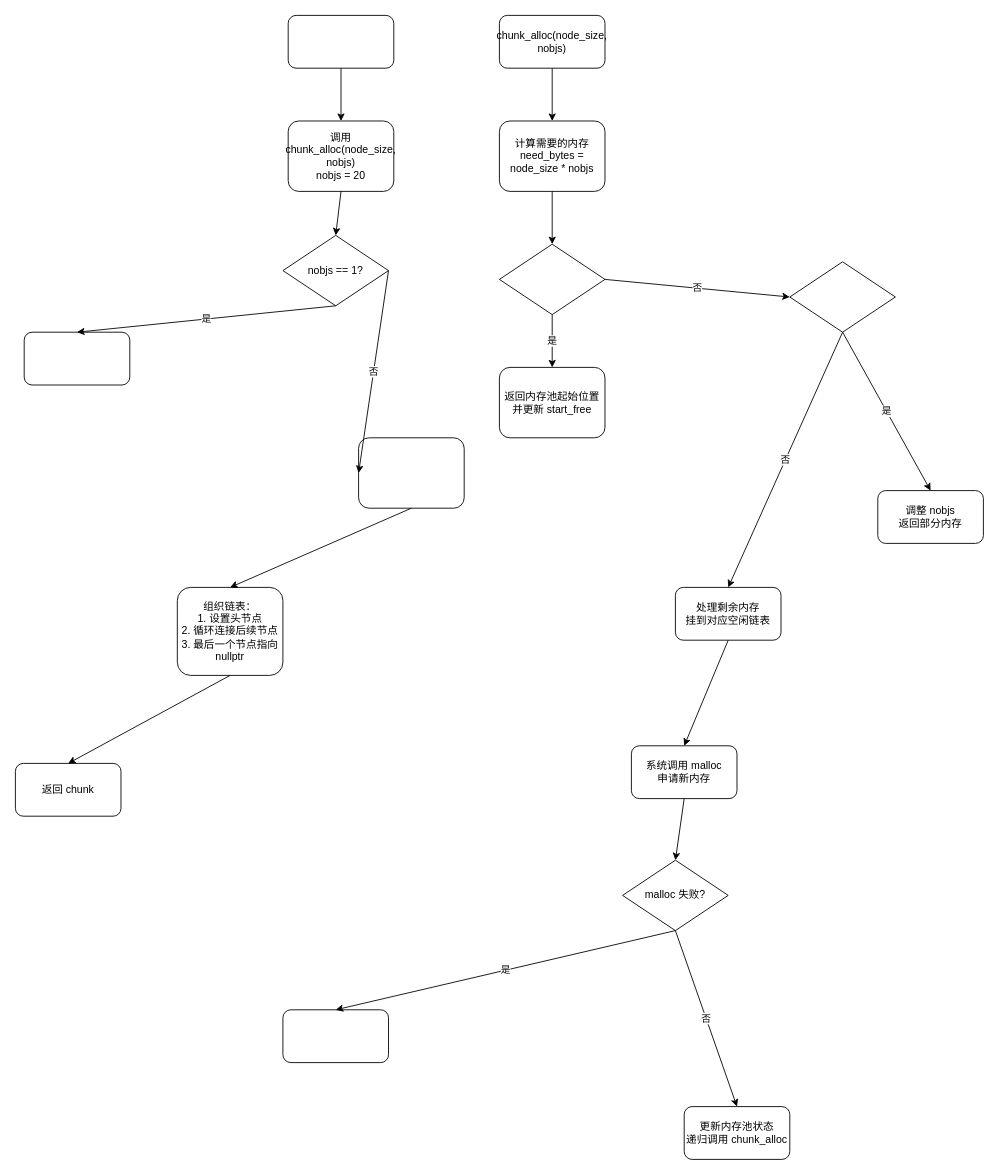
Some shapes in this 999 by 1175 pixel diagram are drawn without their labels. Here are the shapes that lost their labels. From the top down, the centre of each, then its label:
At (340,41): "refill(node_size)".
At (552,279): "bytes_left >= need_bytes?".
At (842,296): "bytes_left >= node_size?".
At (76,358): "直接返回 chunk".
At (411,472): "获取空闲链表头指针 my_free_list = free_serial[index]".
At (335,1036): "尝试从更大的 空闲链表回收内存".
